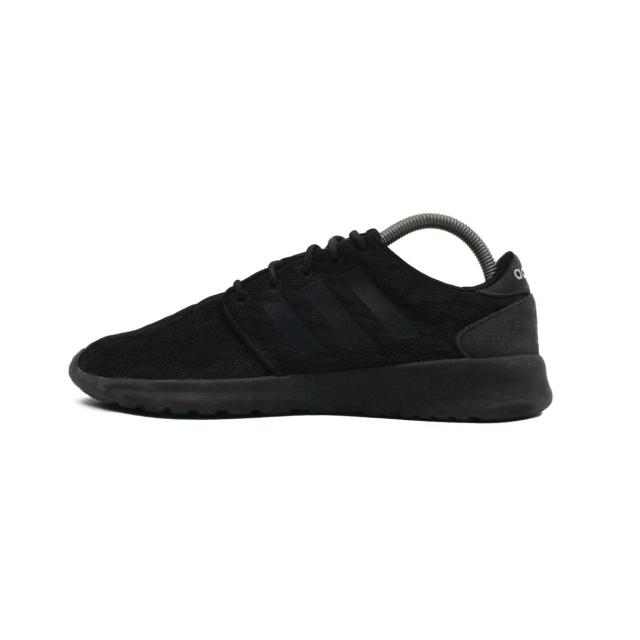heel: (484, 247, 537, 356)
midsole: (64, 352, 549, 419)
uppersole: (75, 234, 500, 375)
